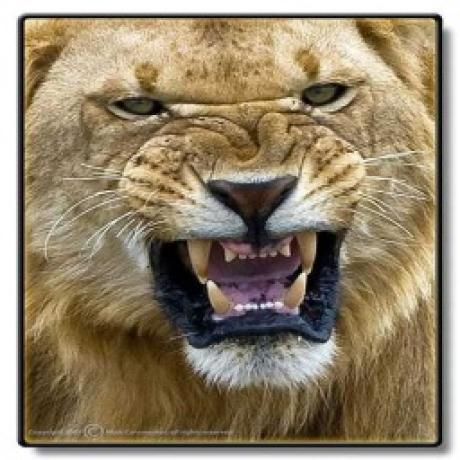Lion: (26, 18, 436, 444)
